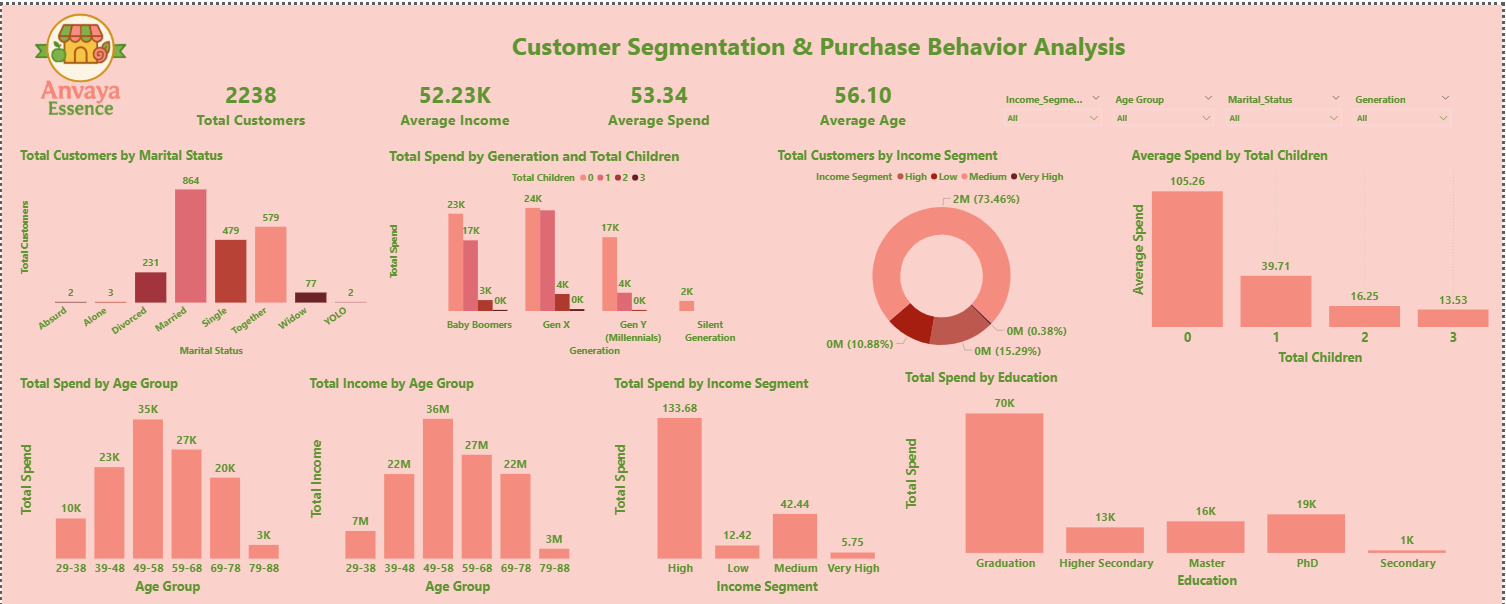

The page's visual inventory and layout, read from the dashboard file:
{"tool":"powerbi","page":{"name":"Customer Segmentation","canvas":[2500,1000],"ordinal":0},"visuals":[{"type":"clusteredColumnChart","fields":{"Category":["Table.Age Group"],"Y":["Sum(Table.Income)"]},"box":[508,614,470,372],"z":0},{"type":"clusteredColumnChart","fields":{"Category":["Table.Education"],"Y":["Sum(Table.MntTotal_Spent)"]},"box":[1500,605,982.5,372.5],"z":1000},{"type":"clusteredColumnChart","fields":{"Category":["Table.Age Group"],"Y":["Sum(Table.MntTotal_Spent)"]},"box":[26,614,468,372],"z":2000},{"type":"clusteredColumnChart","fields":{"Category":["Table.Marital_Status"],"Y":["CountNonNull(Table.ID)"]},"box":[25,235,615,355],"z":3000},{"type":"clusteredColumnChart","fields":{"Y":["Avg(Table.MntTotal_Spent)"],"Category":["Table.Income_Segment"]},"box":[1014,614,486,372],"z":4000},{"type":"donutChart","fields":{"Category":["Table.Income_Segment"],"Y":["Sum(Table.Sl No.)"]},"box":[1288,234,556,372],"z":5000},{"type":"cardVisual","fields":{"Data":["Count(Table.ID)","Avg(Table.Income)","Avg(Table.MntTotal_Spent)","Avg(Table.Age)"]},"box":[240,110,1370,110],"z":6000},{"type":"clusteredColumnChart","fields":{"Category":["Table.Generation"],"Series":["Table.Total_Childrenhome"],"Y":["Sum(Table.MntTotal_Spent)"]},"box":[640,235,647.5,355],"z":7000},{"type":"slicer","fields":{"Values":["Table.Income_Segment"]},"box":[1660,140,182.5,80],"z":8000},{"type":"slicer","fields":{"Values":["Table.Age Group"]},"box":[1842.5,140,187.5,80],"z":9000},{"type":"slicer","fields":{"Values":["Table.Marital_Status"]},"box":[2030,140,212.5,80],"z":10000},{"type":"slicer","fields":{"Values":["Table.Generation"]},"box":[2242.5,140,182.5,80],"z":11000},{"type":"clusteredColumnChart","fields":{"Y":["Avg(Table.MntTotal_Spent)"],"Category":["Table.Total_Childrenhome"]},"box":[1877.5,235,605,370],"z":12000},{"type":"image","box":[22,0,218,220],"z":13000},{"type":"textbox","title":"Customer Segmentation & Purchase Behavior Analysis","box":[240,40,2242.5,60],"z":14000}]}

Visuals, with their boxes in screenshot pixels (x1, y1, x2, y2), scaled from the page's 2500x1000 canvas onto the 1506x604 screenshot:
clusteredColumnChart - Table.Age Group x Sum(Table.Income): (left=306, top=371, right=589, bottom=596)
clusteredColumnChart - Table.Education x Sum(Table.MntTotal_Spent): (left=904, top=365, right=1495, bottom=590)
clusteredColumnChart - Table.Age Group x Sum(Table.MntTotal_Spent): (left=16, top=371, right=298, bottom=596)
clusteredColumnChart - Table.Marital_Status x CountNonNull(Table.ID): (left=15, top=142, right=386, bottom=356)
clusteredColumnChart - Avg(Table.MntTotal_Spent) x Table.Income_Segment: (left=611, top=371, right=904, bottom=596)
donutChart - Table.Income_Segment x Sum(Table.Sl No.): (left=776, top=141, right=1111, bottom=366)
cardVisual - Count(Table.ID) x Avg(Table.Income): (left=145, top=66, right=970, bottom=133)
clusteredColumnChart - Table.Generation x Table.Total_Childrenhome: (left=386, top=142, right=776, bottom=356)
slicer - Table.Income_Segment: (left=1000, top=85, right=1110, bottom=133)
slicer - Table.Age Group: (left=1110, top=85, right=1223, bottom=133)
slicer - Table.Marital_Status: (left=1223, top=85, right=1351, bottom=133)
slicer - Table.Generation: (left=1351, top=85, right=1461, bottom=133)
clusteredColumnChart - Avg(Table.MntTotal_Spent) x Table.Total_Childrenhome: (left=1131, top=142, right=1495, bottom=365)
image: (left=13, top=0, right=145, bottom=133)
"Customer Segmentation & Purchase Behavior Analysis" textbox: (left=145, top=24, right=1495, bottom=60)
